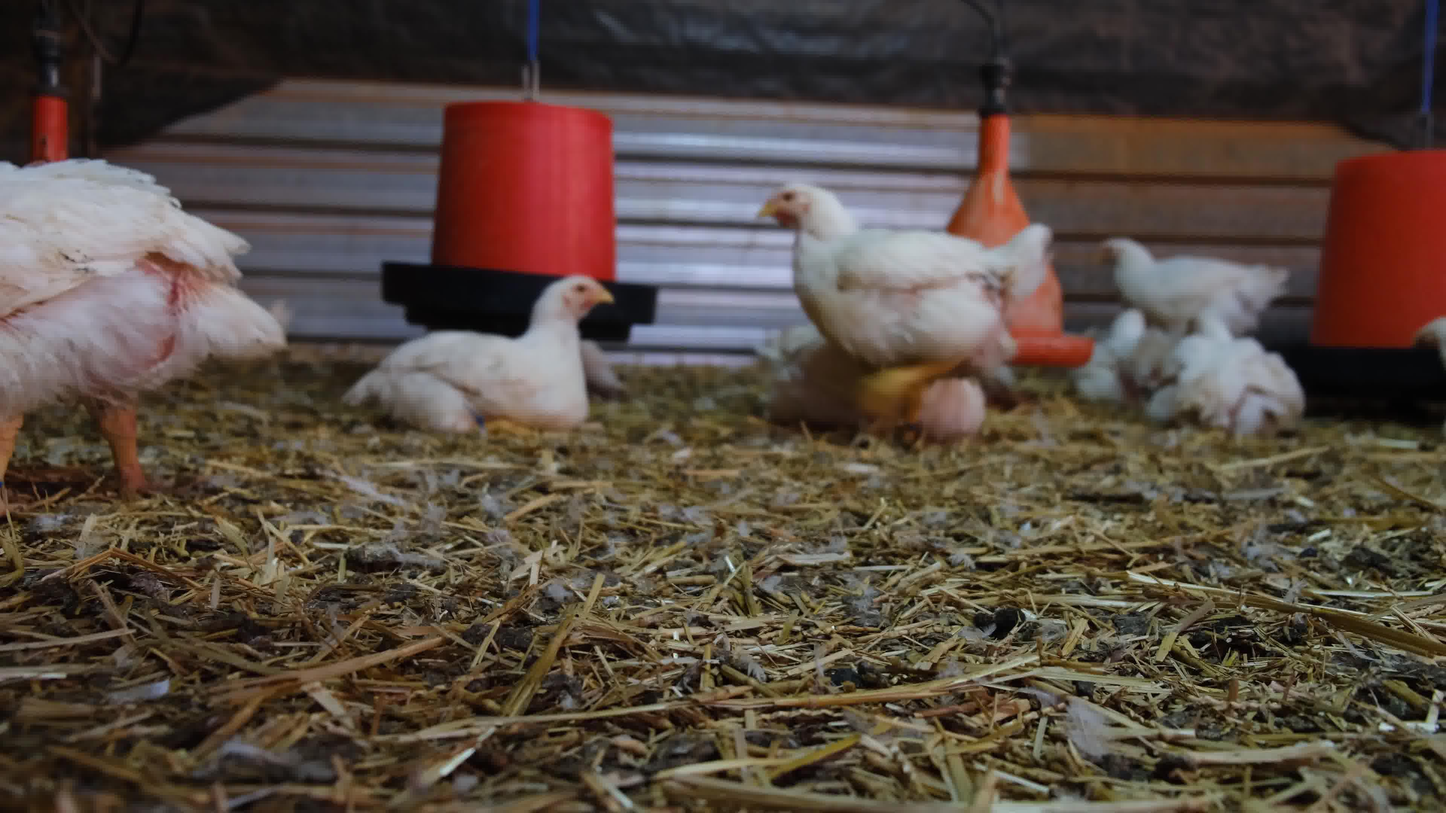AbNormal: (362, 256, 653, 476), (714, 299, 900, 435), (1160, 312, 1339, 444)
Normal: (0, 87, 290, 512), (742, 179, 1077, 431), (1058, 216, 1307, 335)
